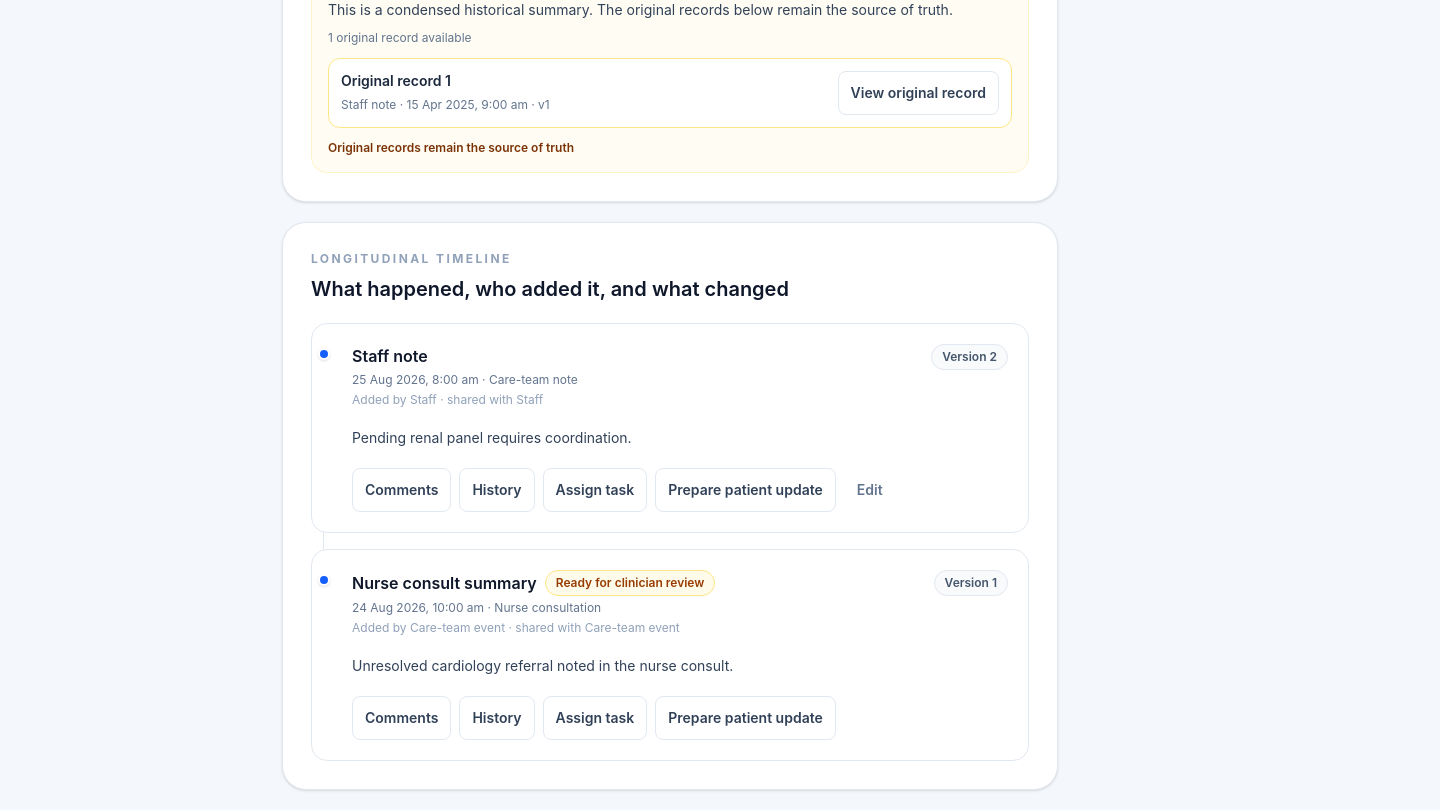
Test: Gate B shared care note › closes Comments from a deliberate backdrop interaction
(page scrolled)
Click the button "Comments" below "Added by Staff · shared with Staff".
click(402, 490)  # box [352, 468, 451, 512]
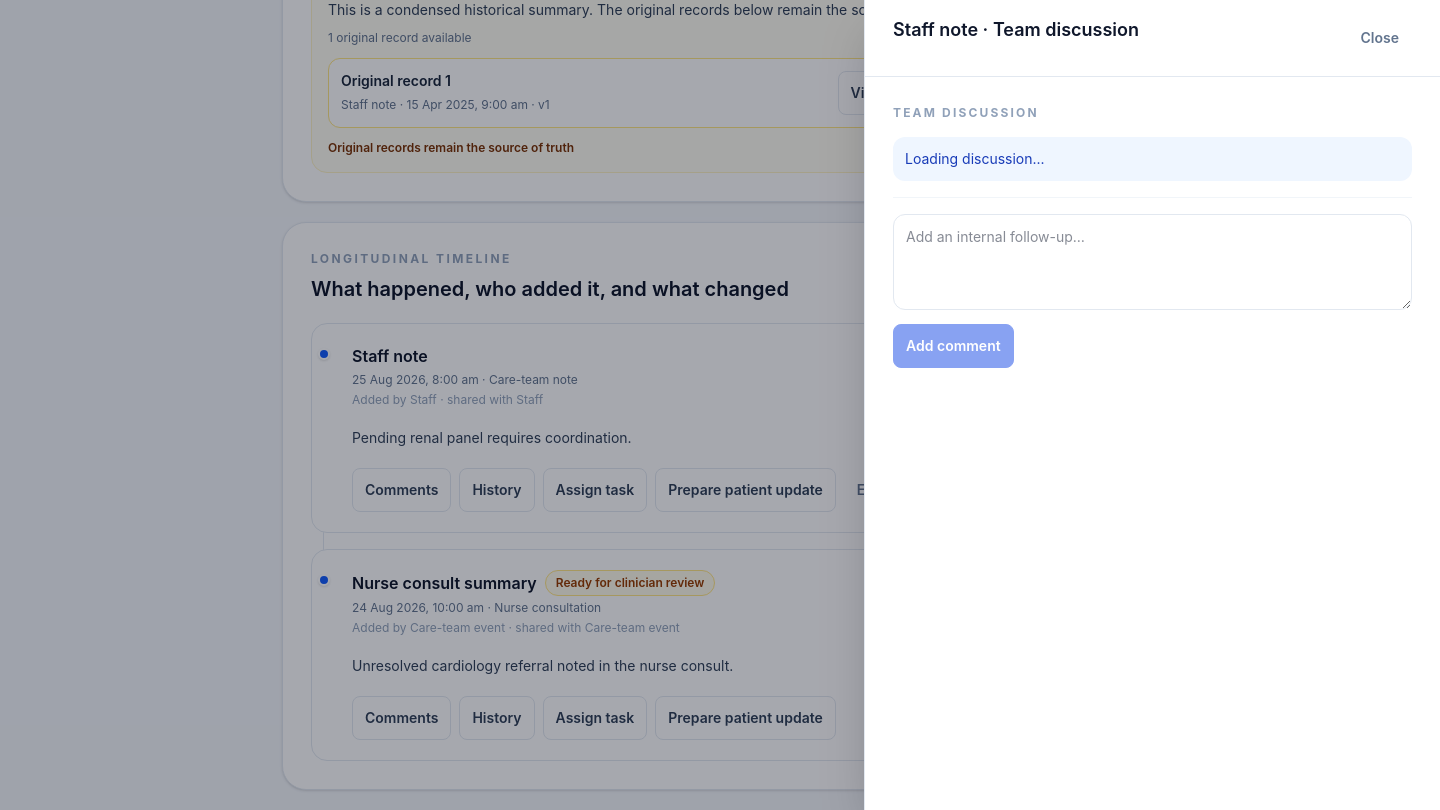
Press the mouse on the element with test id "comments-drawer-backdrop" at (720, 405), box [0, 0, 1439, 809]
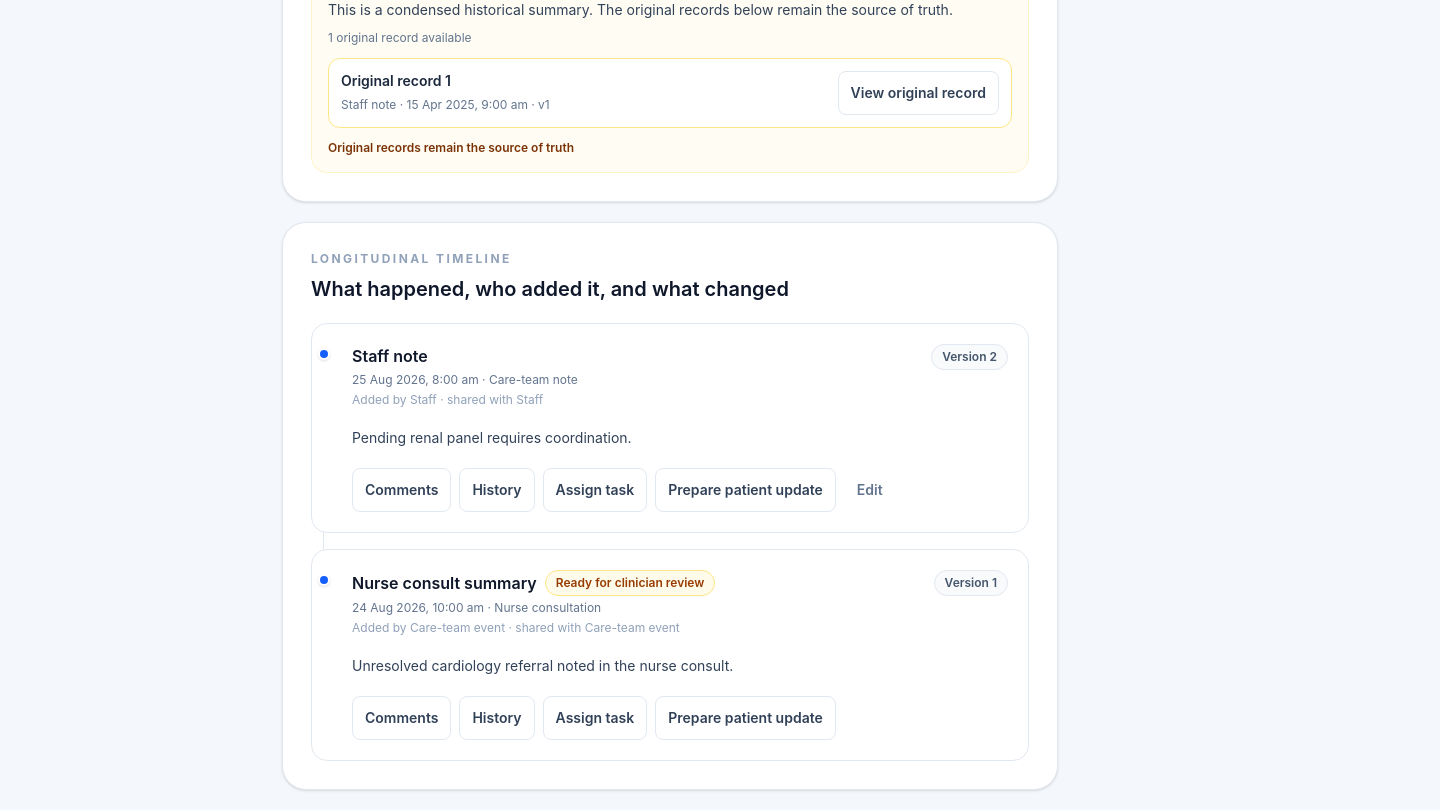
Expected: the dialog with test id "comments-drawer" is gone
